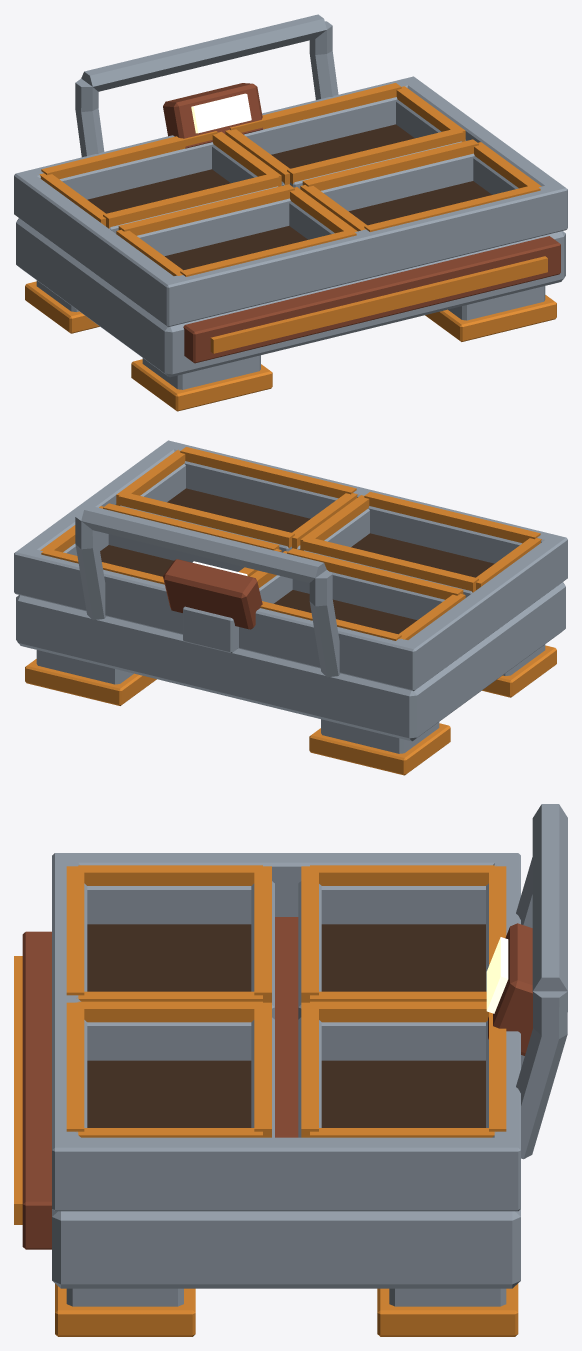
The model's file is Prop_GravCart.fbx.
3 renders of one model, top to bottom at view 1: azimuth 30°, elevation 25°; view 2: azimuth 150°, elevation 25°; view 3: azimuth 270°, elevation 25°, orthographic. The views are drawn at different scales.
Visible parts, largest first — view 1: Prop_GravCart; view 2: Prop_GravCart; view 3: Prop_GravCart.
Boxes of the visible parts, left/top/right/bottom form: Prop_GravCart: left=14, top=14, right=567, bottom=411; Prop_GravCart: left=14, top=440, right=567, bottom=775; Prop_GravCart: left=14, top=804, right=567, bottom=1336.
Size of the model in its own units: 240 by 115 by 189.
